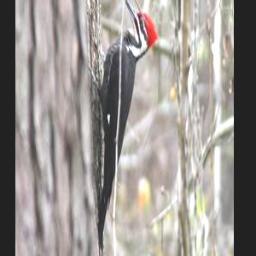Woodpecker: (88, 0, 160, 256)
